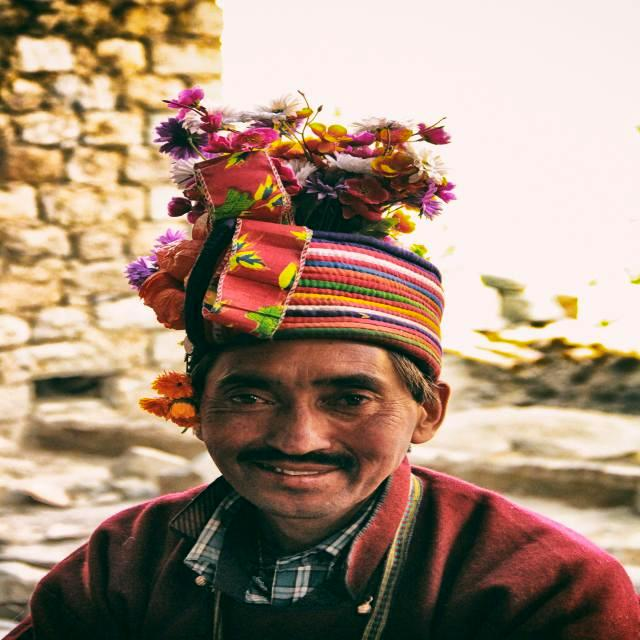no_hard_hat: (126, 88, 456, 338)
person: (33, 89, 627, 640)
